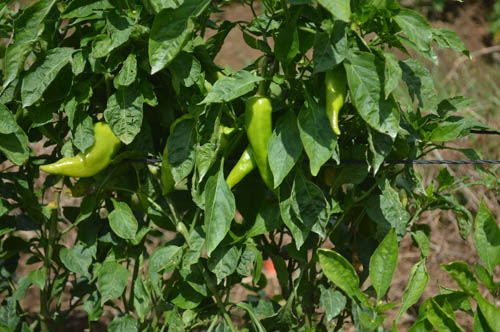ChiliPepper: (37, 125, 125, 181), (248, 97, 283, 194), (158, 114, 193, 200), (226, 148, 258, 195), (326, 71, 347, 142)
